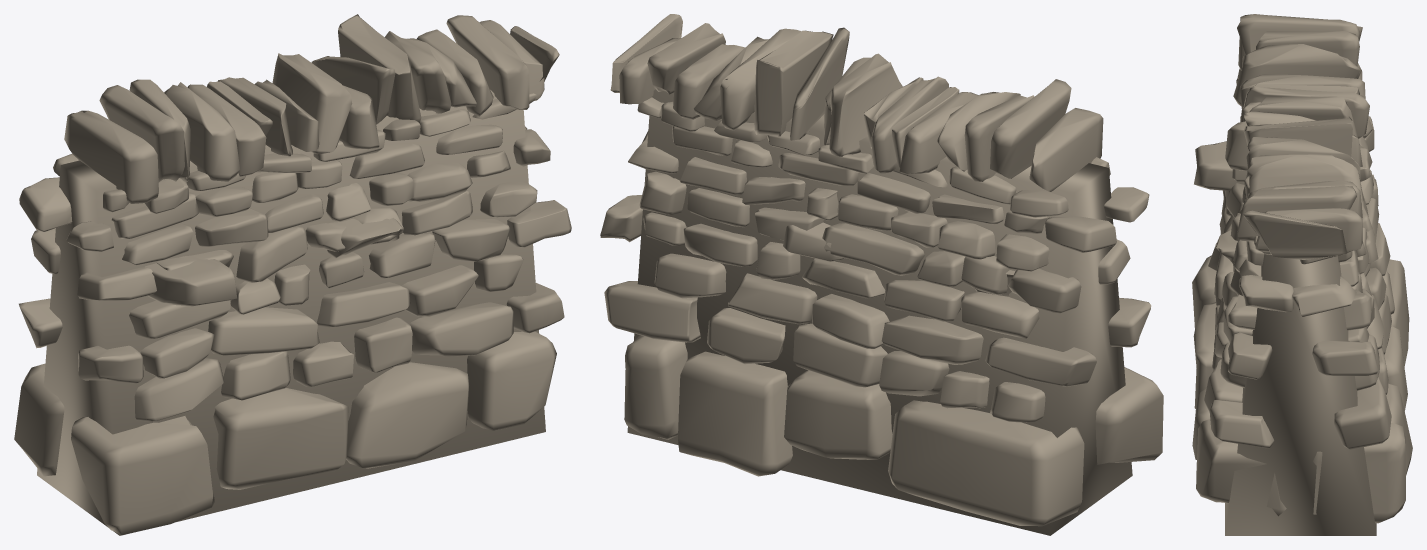
File: boundary.dry_stone.wall_h.glb
3 views of the same model, side by side, from view 1: azimuth 30°, elevation 25°; view 2: azimuth 150°, elevation 25°; view 3: azimuth 270°, elevation 25° (orthographic). The views are drawn at different scales.
Visible parts, largest first — view 1: main__stone_a98; view 2: main__stone_a98; view 3: main__stone_a98.
Part boxes in pixels (x1,y1,x2,y2): main__stone_a98: [14, 14, 571, 535]; main__stone_a98: [600, 14, 1163, 535]; main__stone_a98: [1192, 14, 1412, 535].
Bounding box in the file's own units: 2.27 × 1.76 × 0.9618.
